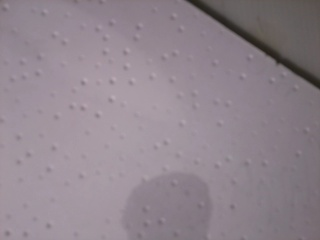Water_detected: (126, 178, 187, 240)
